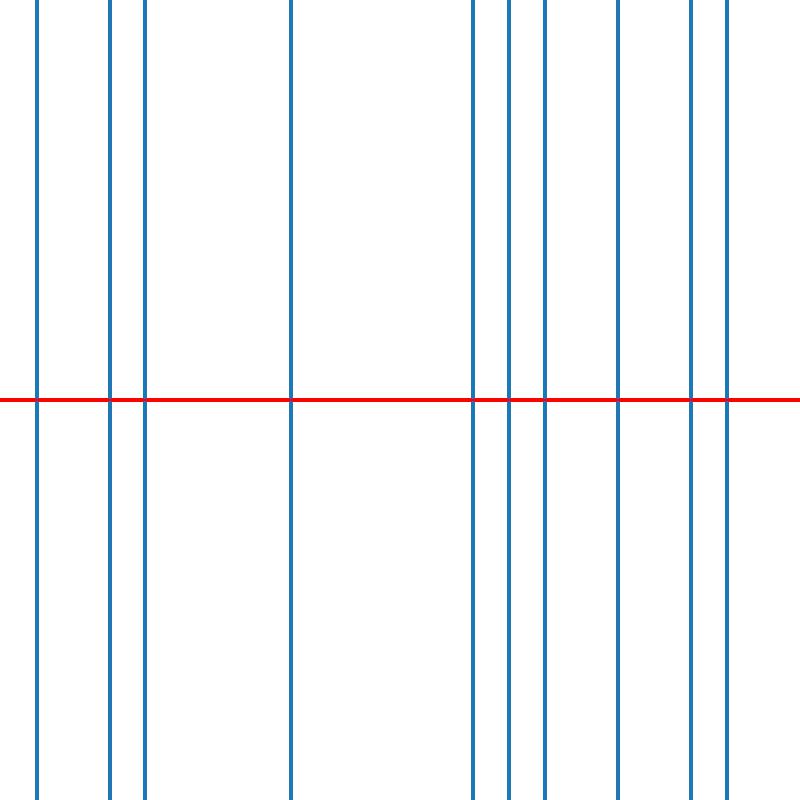root: (32, 396, 40, 404), (141, 396, 149, 404), (541, 396, 549, 404), (614, 396, 621, 404), (723, 396, 730, 404), (287, 396, 294, 404), (505, 396, 512, 404), (469, 396, 476, 404), (687, 396, 694, 404), (105, 396, 112, 404)
